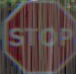Stop: (4, 2, 73, 66)
